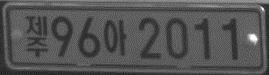0: (163, 16, 189, 59)
1: (220, 17, 240, 61), (192, 16, 211, 62)
2: (137, 15, 163, 60)
6: (76, 16, 101, 58)
9: (49, 15, 74, 58)
아: (103, 17, 128, 57)
제주_V: (23, 13, 49, 60)
